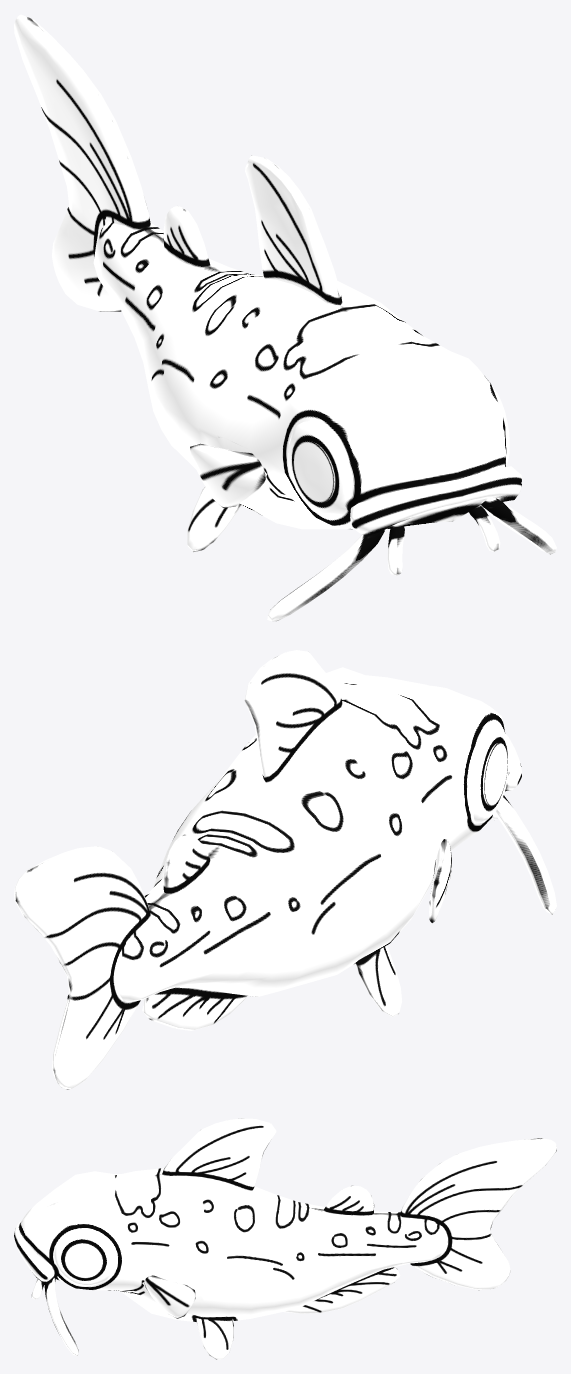
The model's file is source.glb.
The picture shows the model from 3 angles, top to bottom: view 1: azimuth 30°, elevation 25°; view 2: azimuth 150°, elevation 25°; view 3: azimuth 270°, elevation 25°; orthographic projection. The views are drawn at different scales.
Parts seen in each view (by area): view 1: Object_2; view 2: Object_2; view 3: Object_2.
Boxes of the visible parts, x1,y1,x2,y2 form: Object_2: (14,14,556,621); Object_2: (14,650,556,1089); Object_2: (14,1118,556,1359).
Size of the model in its own units: 1049 by 1210 by 2825.
Materials: 1 (1 with a texture image).
